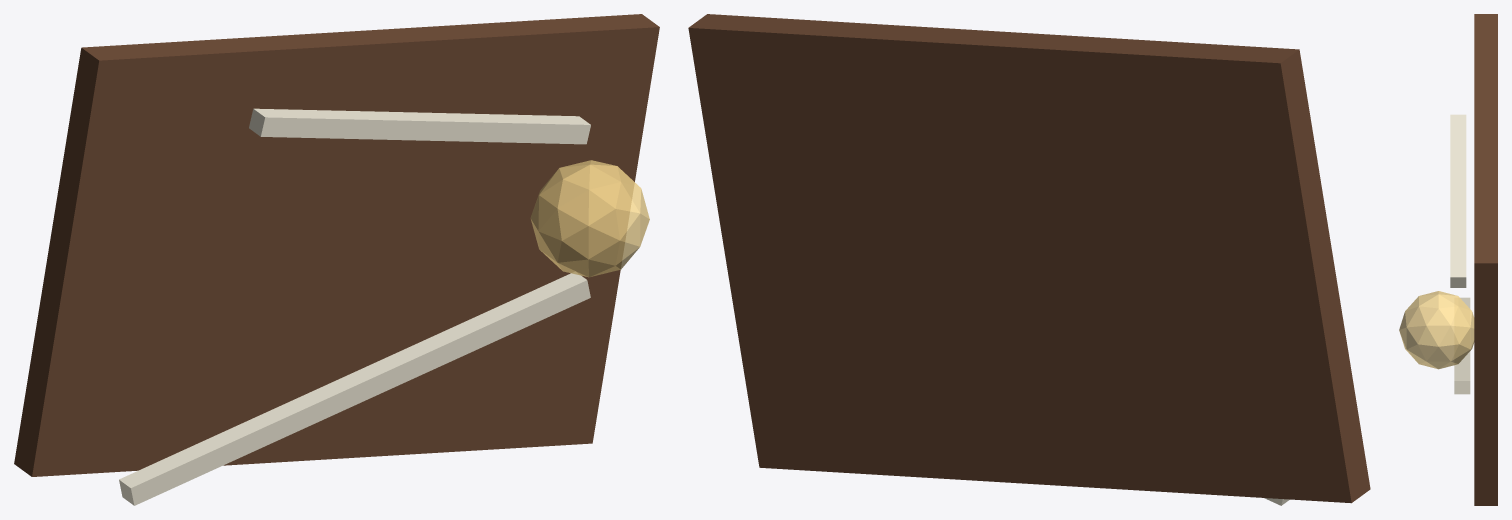
File: 02_world_prop_polish.glb
The picture shows the model from 3 angles, left to right: view 1: azimuth 30°, elevation 25°; view 2: azimuth 150°, elevation 25°; view 3: azimuth 270°, elevation 25°; orthographic projection. The views are drawn at different scales.
Parts seen in each view (by area): view 1: object_overlay_plate, edge_wear_a, glow_socket, edge_wear_b; view 2: object_overlay_plate; view 3: object_overlay_plate, glow_socket, edge_wear_b, edge_wear_a.
Part boxes in pixels (box(x1,y1,x2,y2)): object_overlay_plate: box(14, 14, 659, 476); edge_wear_a: box(119, 272, 590, 505); glow_socket: box(530, 160, 649, 277); edge_wear_b: box(249, 108, 590, 144); object_overlay_plate: box(688, 14, 1370, 503); object_overlay_plate: box(1474, 14, 1497, 505); glow_socket: box(1399, 291, 1474, 369); edge_wear_b: box(1450, 114, 1466, 287); edge_wear_a: box(1454, 297, 1470, 394).
Size of the model in its own units: 1.21 by 0.9293 by 0.25.
